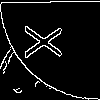X: (25, 25, 71, 59)
